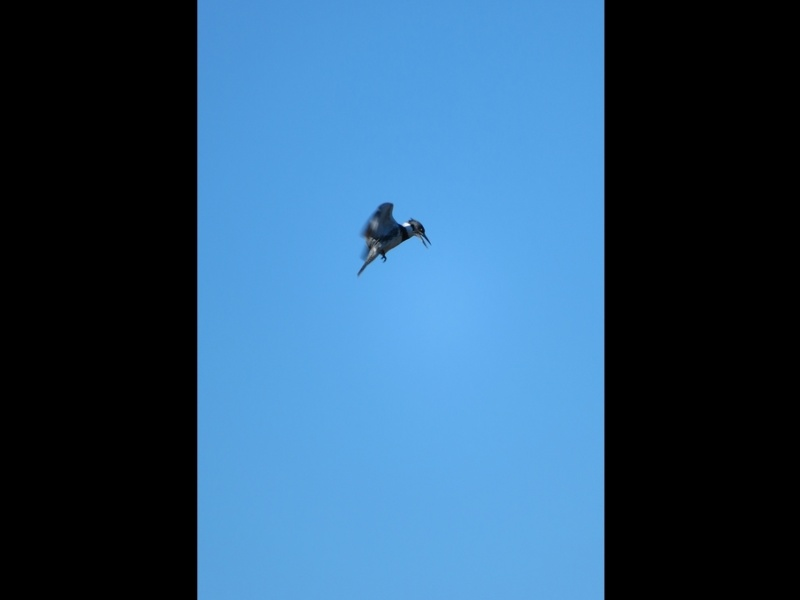kingfisher: (353, 200, 434, 279)
